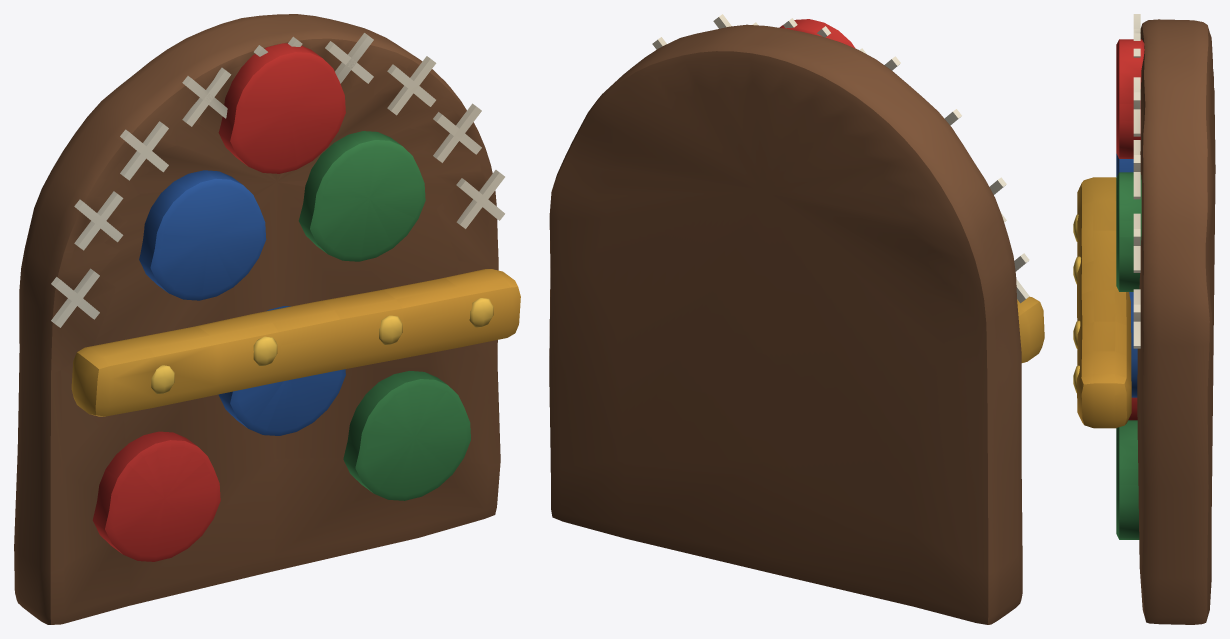
Rendered from den_crumb_seal.glb.
3 renders of one model, left to right at view 1: azimuth 30°, elevation 25°; view 2: azimuth 150°, elevation 25°; view 3: azimuth 270°, elevation 25°, orthographic. The views are drawn at different scales.
Parts seen in each view (by area): view 1: den_crumb_seal; view 2: den_crumb_seal; view 3: den_crumb_seal.
Boxes of the visible parts, x1,y1,x2,y2 form: den_crumb_seal: (14, 14, 520, 624); den_crumb_seal: (549, 14, 1044, 624); den_crumb_seal: (1073, 14, 1215, 624).
Bounding box in the file's own units: 8.04 × 9.01 × 2.38.
